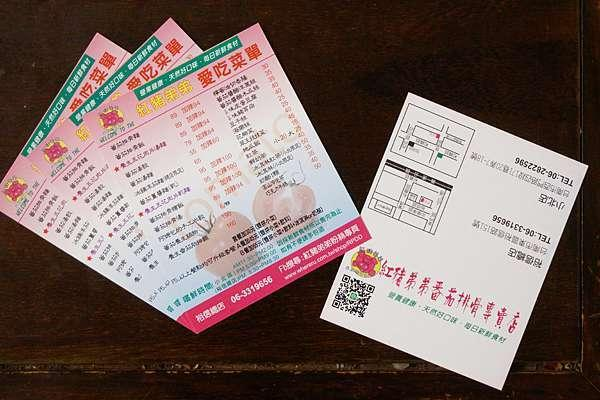cardboard: (321, 94, 586, 388)
paper: (0, 19, 369, 331), (321, 94, 586, 388)
